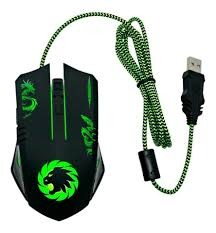mouse: (3, 64, 109, 221)
